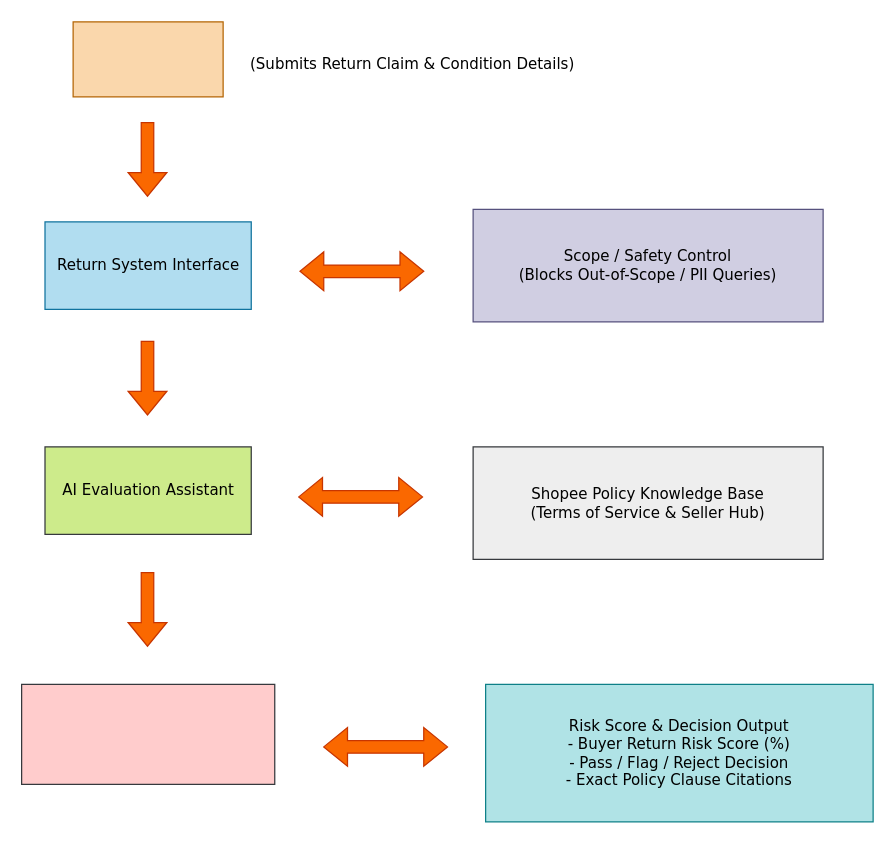
Some shapes in this 896 by 844 pixel diagram are drawn without their labels. Each missing label, with the centre of its shape:
Buyer / Seller: (147,59)
Evaluation Point (Logs Accuracy & Citation): (147,733)
